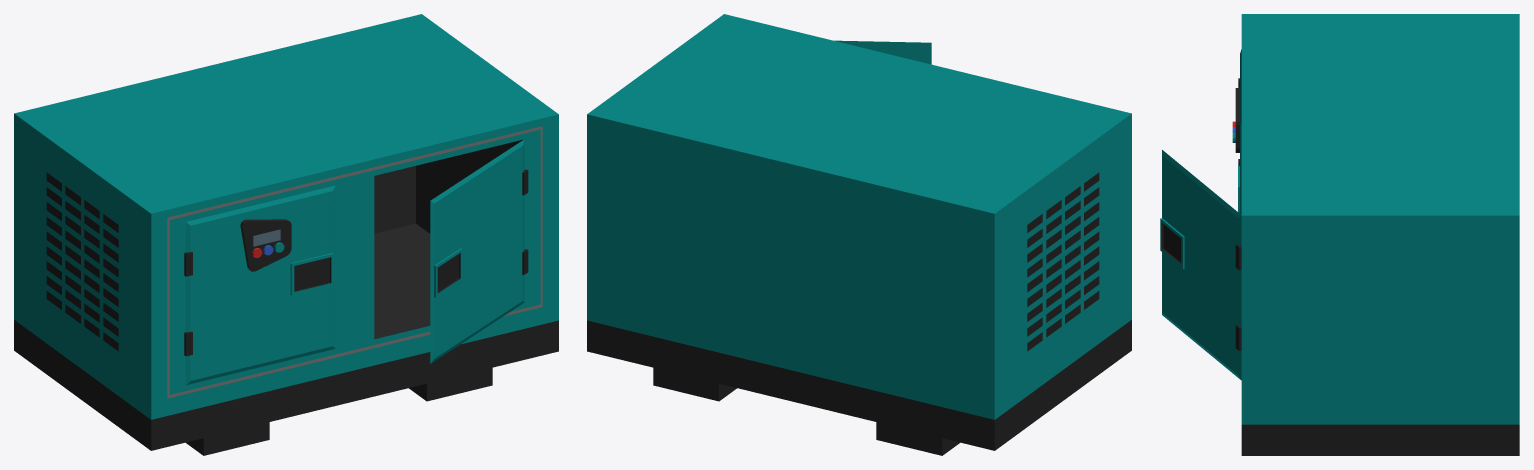
File: Generator.fbx
3 views of the same model, side by side, from view 1: azimuth 30°, elevation 25°; view 2: azimuth 150°, elevation 25°; view 3: azimuth 270°, elevation 25° (orthographic).
Parts seen in each view (by area): view 1: Generator; view 2: Generator; view 3: Generator.
Part boxes in pixels (box(x1,y1,x2,y2)): Generator: box(14, 14, 558, 455); Generator: box(587, 14, 1131, 455); Generator: box(1160, 14, 1519, 455).
Size of the model in its own units: 240 by 147 by 181.
